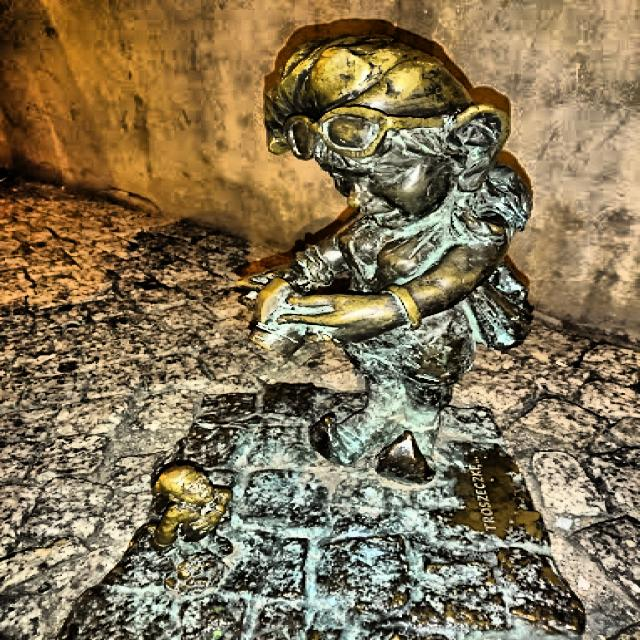Troszka i Adoratorek: (59, 20, 585, 640)
